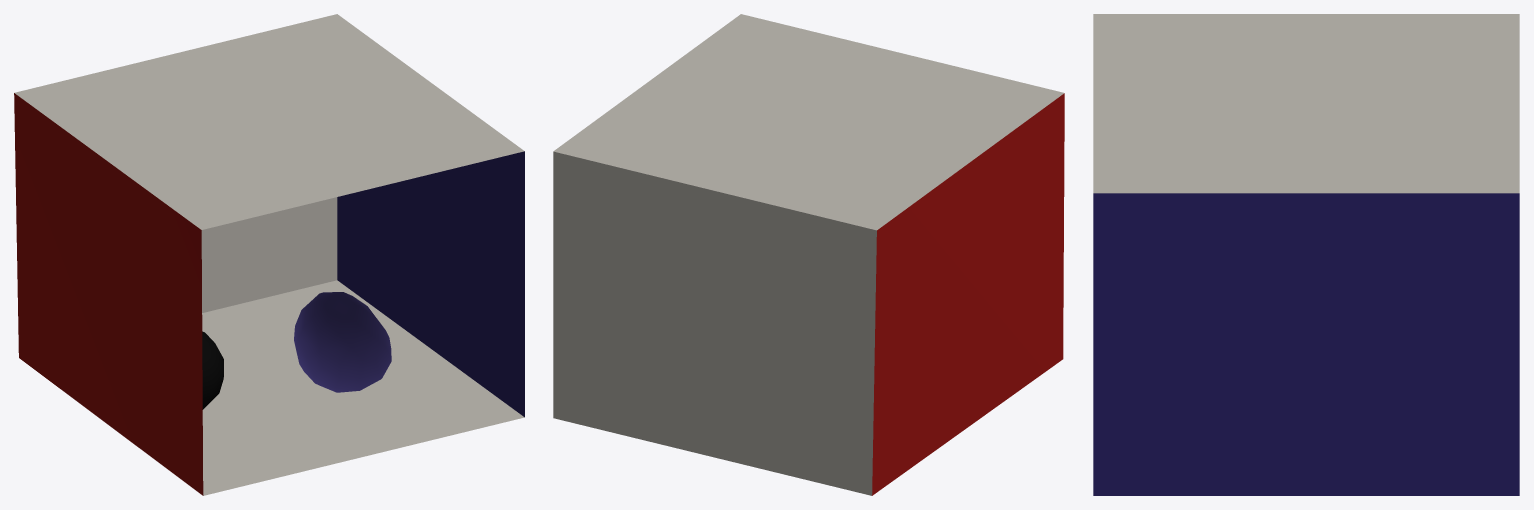
The model's file is CornellBox-Ellipsoid-460.obj.
The picture shows the model from 3 angles, left to right: view 1: azimuth 30°, elevation 25°; view 2: azimuth 150°, elevation 25°; view 3: azimuth 270°, elevation 25°; orthographic projection. The views are drawn at different scales.
Visible parts, largest first — view 1: ceiling, leftWall, floor, rightWall, backWall, leftSphere, rightSphere; view 2: backWall, ceiling, leftWall; view 3: rightWall, ceiling.
Part boxes in pixels (box(x1,y1,x2,y2)): ceiling: box(14, 14, 524, 229); leftWall: box(14, 93, 203, 495); floor: box(202, 280, 524, 495); rightWall: box(337, 151, 524, 417); backWall: box(201, 197, 337, 312); leftSphere: box(294, 292, 391, 392); rightSphere: box(202, 331, 223, 409); backWall: box(553, 151, 876, 495); ceiling: box(553, 14, 1064, 230); leftWall: box(872, 93, 1064, 495); rightWall: box(1093, 193, 1519, 495); ceiling: box(1093, 14, 1519, 193).
Size of the model in its own units: 2.02 by 1.59 by 2.03.
